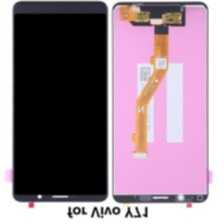phone: (10, 0, 110, 204), (111, 0, 210, 206)
